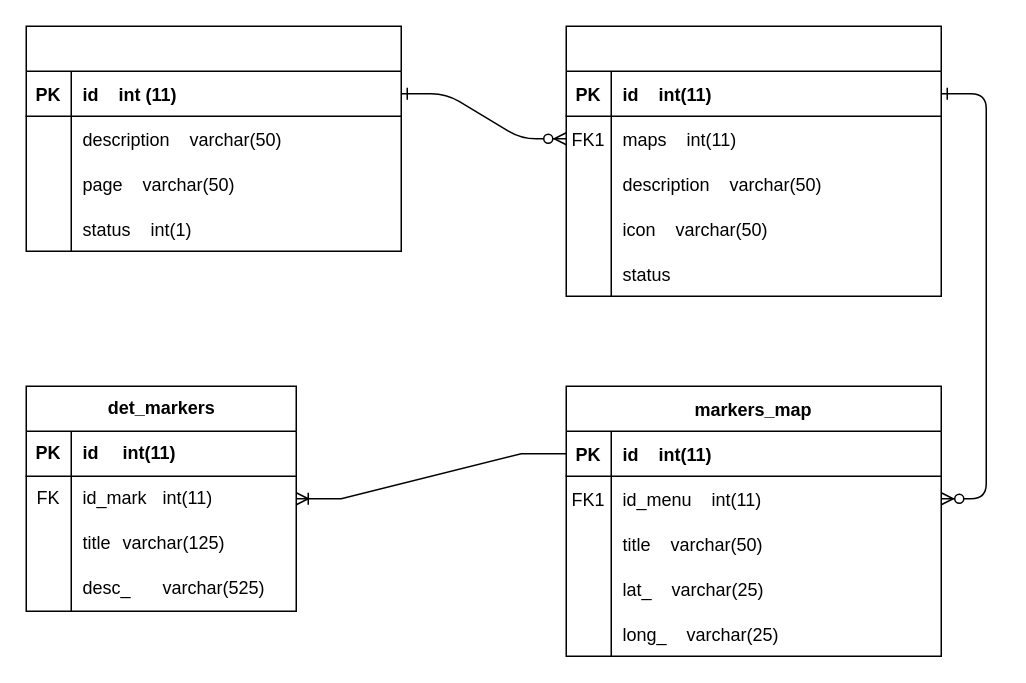
Image size: 1026x683. Some labels were removed from this diagram. Each missing label, with the box of its shape:
maps: (25, 25, 401, 251)
menu_maps: (565, 25, 941, 296)
